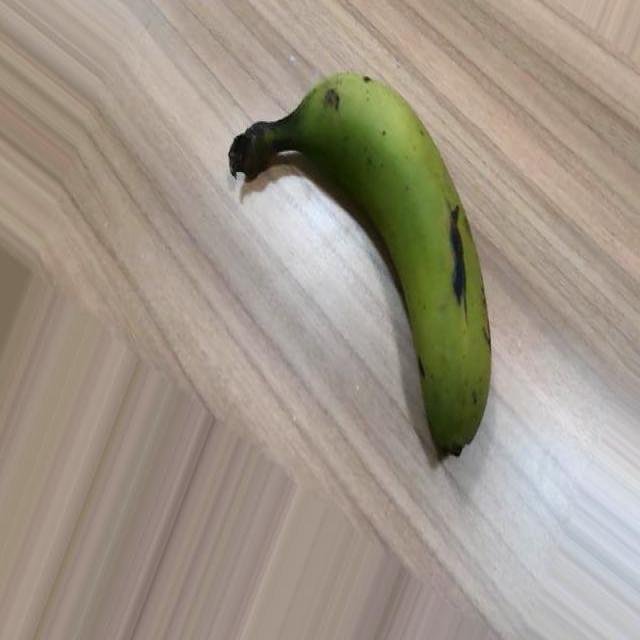Unripe: (228, 67, 493, 463)
